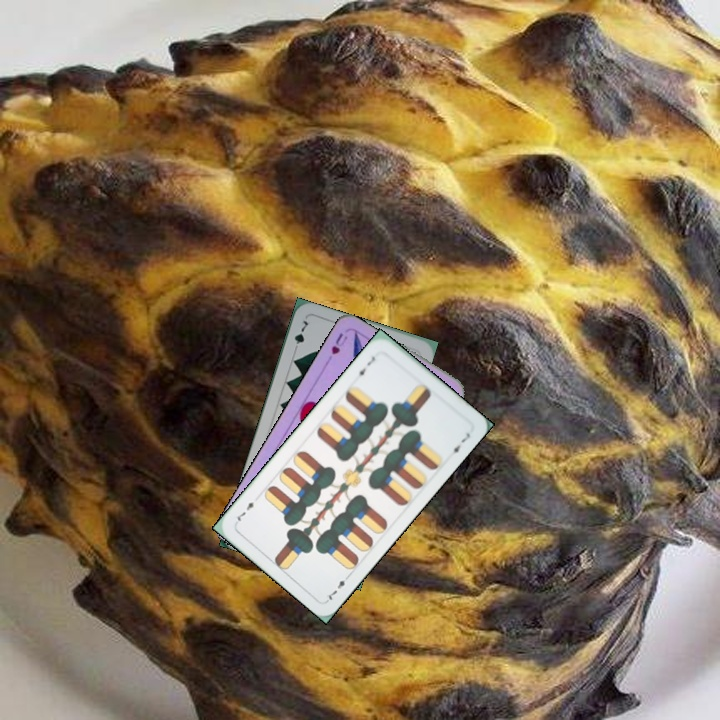E7: (351, 352, 378, 380), (322, 576, 347, 604)
G7: (290, 316, 311, 355)
HU: (327, 329, 350, 357)
